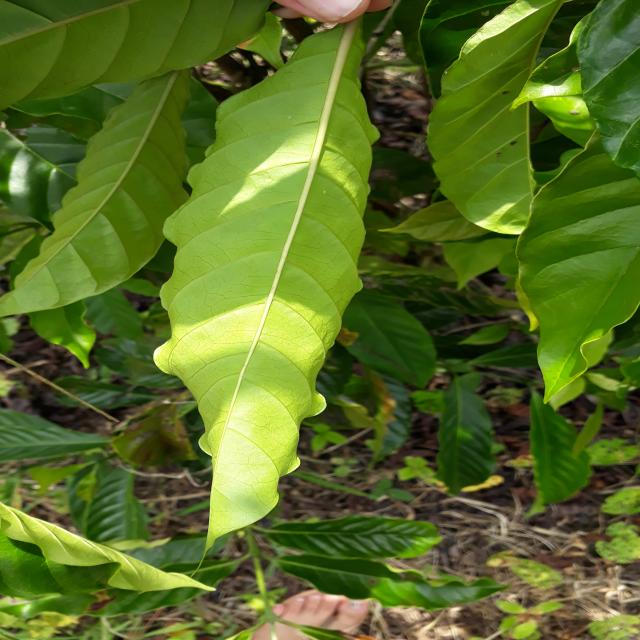Sanas: (151, 12, 380, 550)
